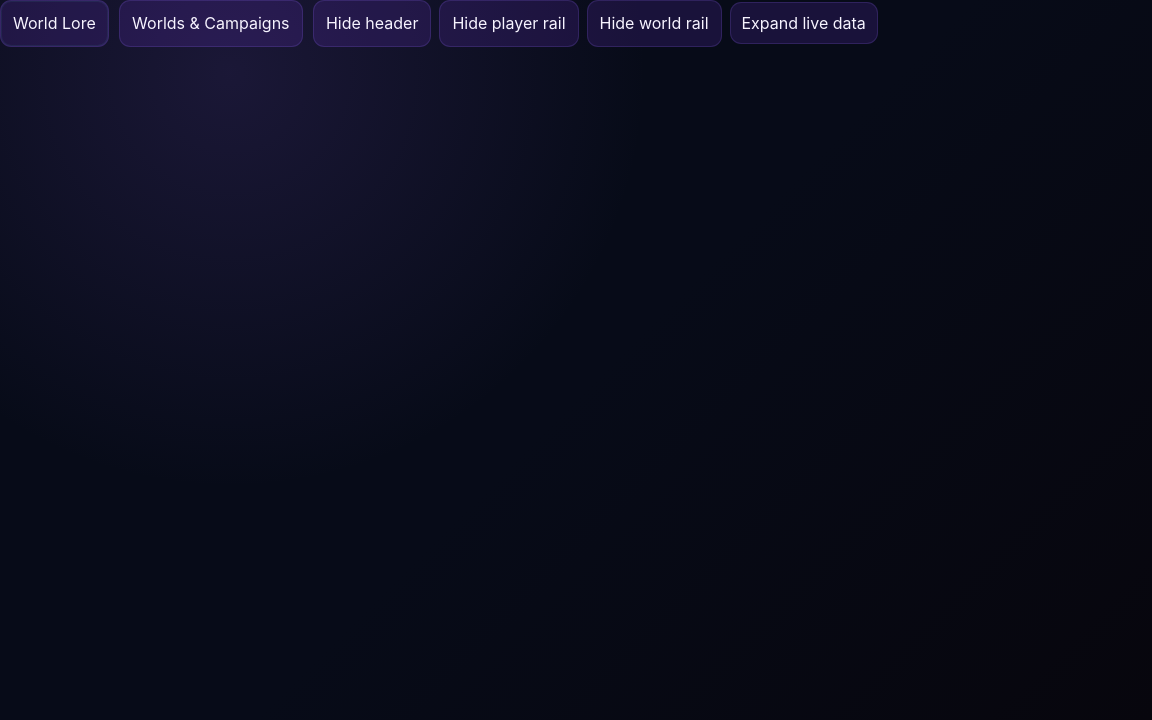
Test: RpgWorkspaceHeader › replaces runtime status options with a full world lore view
The width and height of the screenshot is (1152, 720).
Expected: the button "Hide player rail" is shown, [439,0,578,47]
Expected: the button "Hide world rail" is shown, [586,0,722,47]
Click the button "World Lore" at (54, 23), box [0,0,109,47]
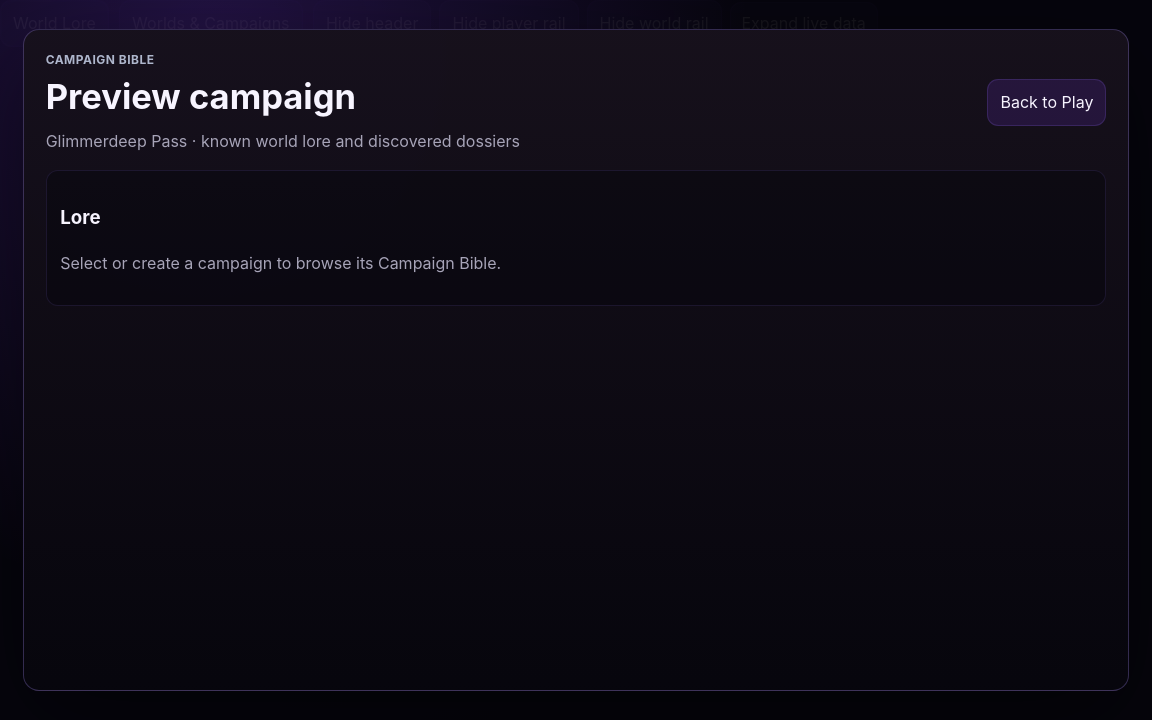
Expected: the heading "Preview campaign" is shown, [46,76,356,117]
Expected: the text "Select or create a campaign to browse its Campaign Bible." is shown, [60,253,501,273]
Click the button "Back to Play" at (1047, 103), box [988,79,1106,126]
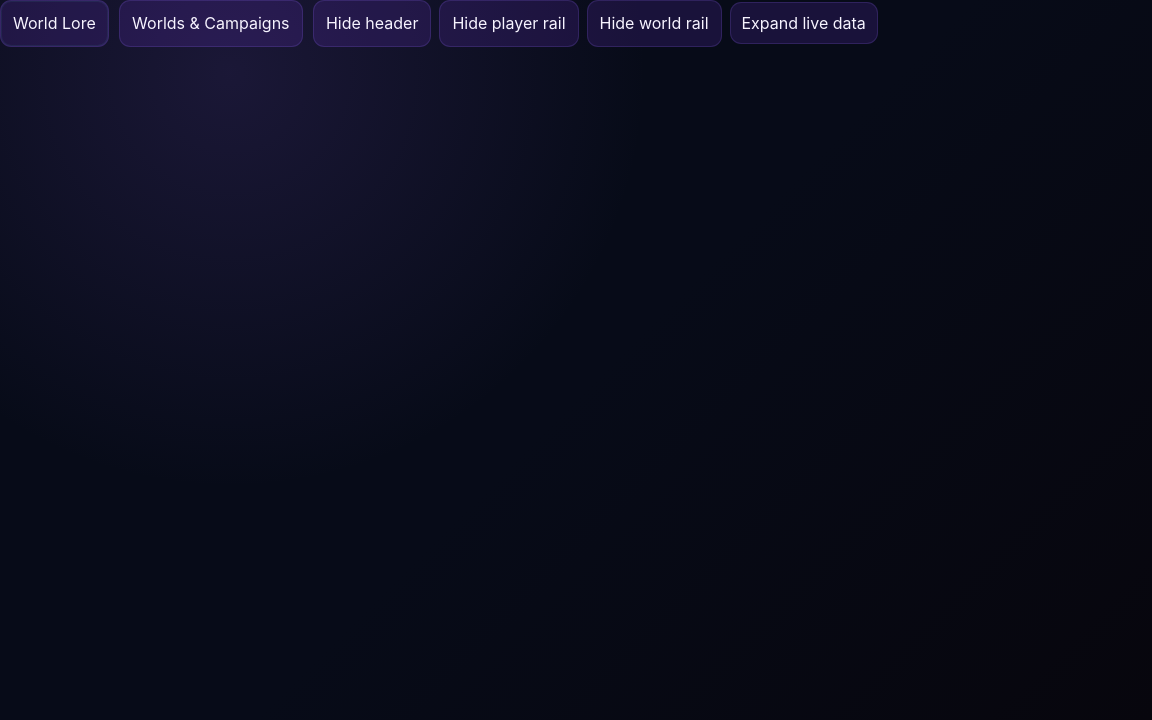
Expected: the heading "Preview campaign" is gone
